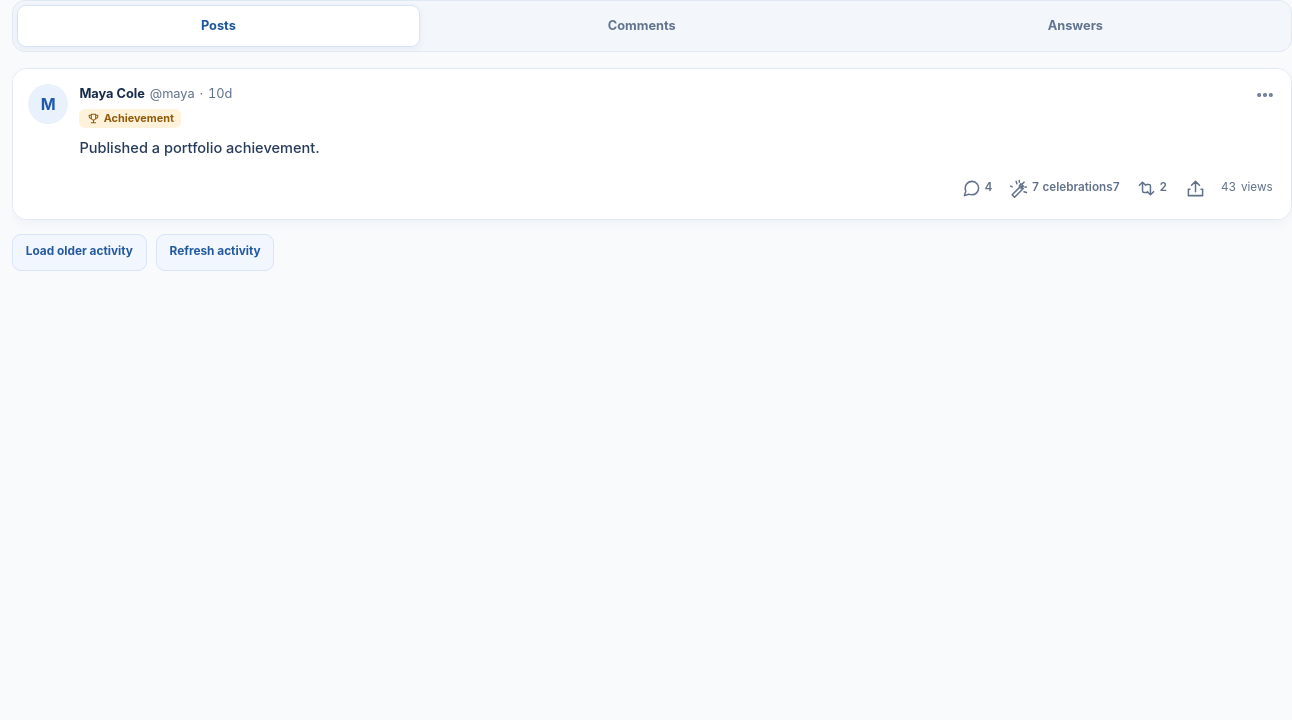
it: renders another member's activity with the same cards and no owner controls
Expected: the text "Published a portfolio achievement." is shown, [79,139,320,157]
Expected: the element named "Member activity" is shown, [12,68,1291,270]
Click the button named "Post options" at [1264, 94], box [1247,77,1282,112]
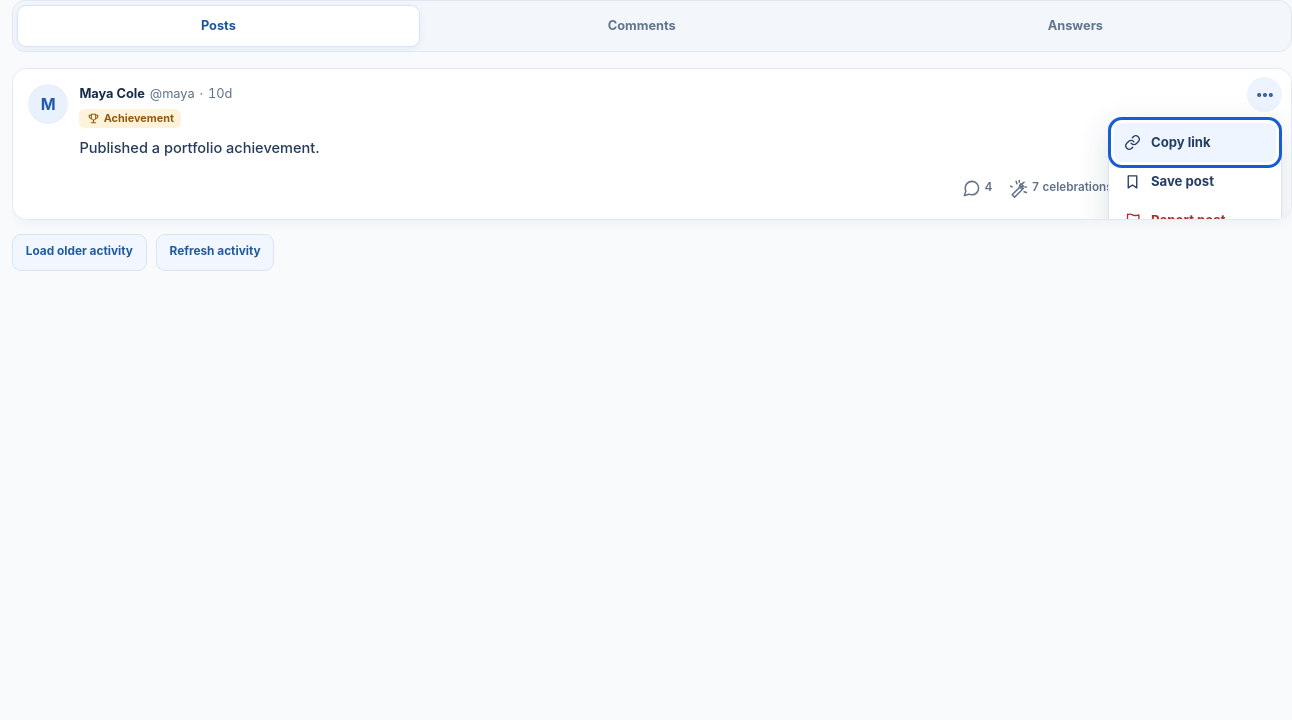
Click the button "Load older activity" at [79, 252], box [12,234,147,270]
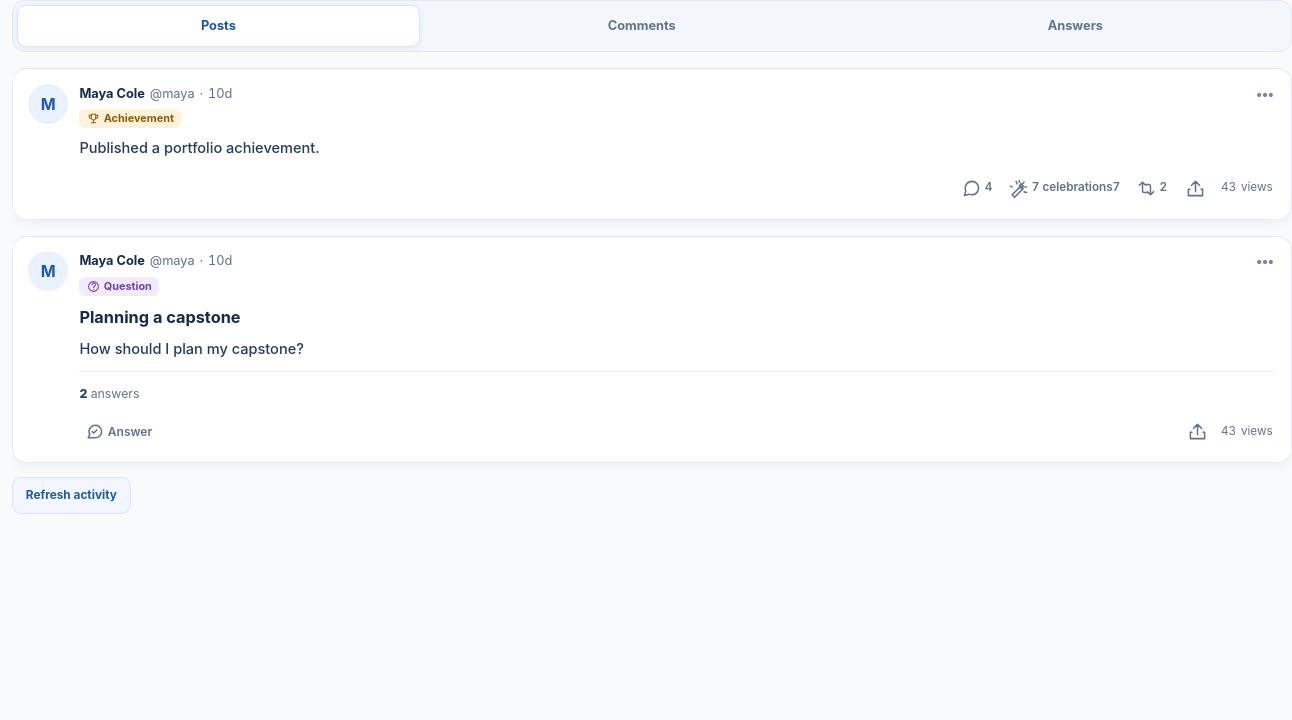
Expected: the heading "Planning a capstone" is shown, [79,307,241,327]
